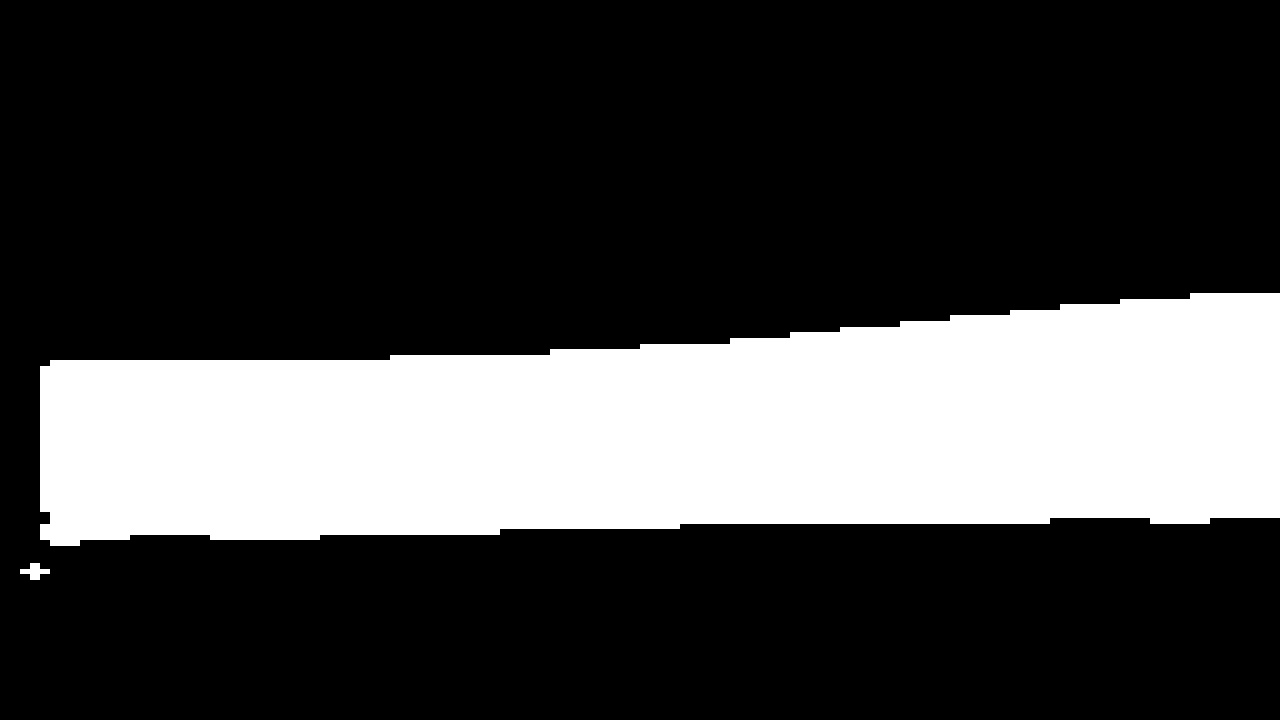Turbine: (33, 259, 1272, 560)
